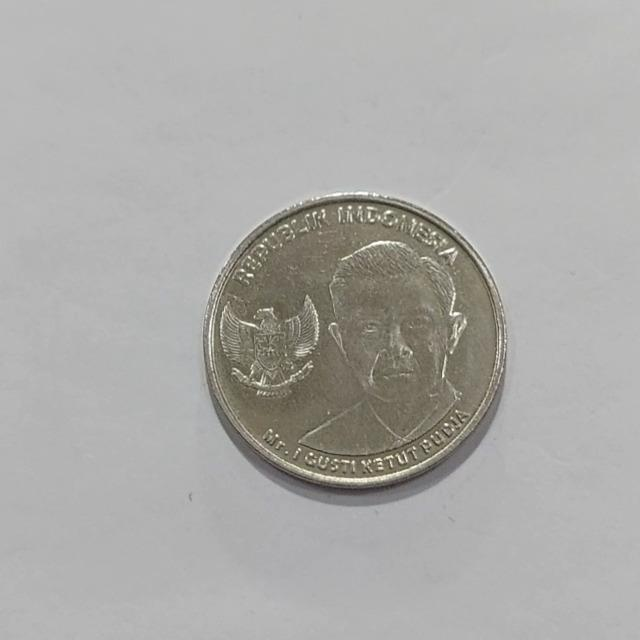Rp100: (202, 190, 508, 491), (293, 237, 470, 458), (216, 291, 321, 400)
